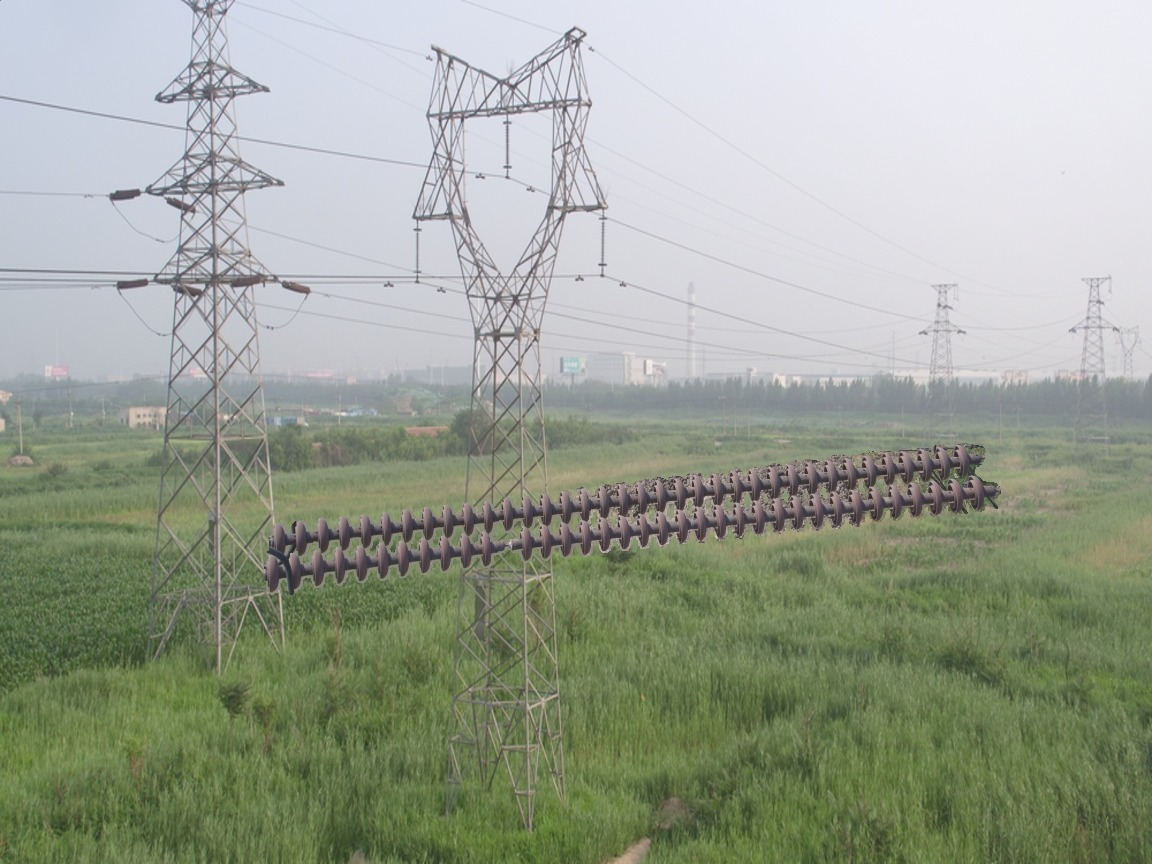defect: (472, 523, 542, 569)
